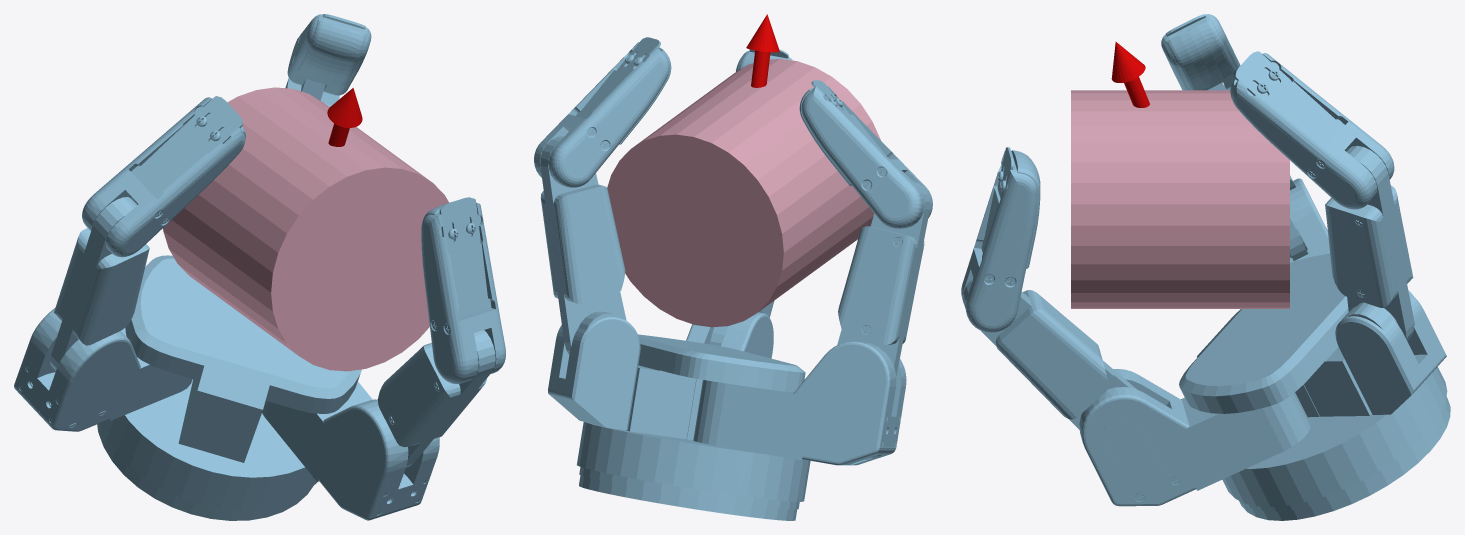
The picture shows the model from 3 angles, left to right: view 1: azimuth 30°, elevation 25°; view 2: azimuth 150°, elevation 25°; view 3: azimuth 270°, elevation 25°; orthographic projection. The views are drawn at different scales.
Parts seen in each view (by area): view 1: world, cylinder_medium.stl; view 2: world, cylinder_medium.stl; view 3: world, cylinder_medium.stl.
Boxes of the visible parts, bbox=[...] form: world: bbox=[14, 14, 505, 520]; cylinder_medium.stl: bbox=[163, 87, 448, 371]; world: bbox=[534, 14, 932, 520]; cylinder_medium.stl: bbox=[607, 58, 880, 327]; world: bbox=[961, 14, 1450, 520]; cylinder_medium.stl: bbox=[1071, 90, 1289, 308].
Size of the model in its own units: 0.1483 by 0.1933 by 0.1789.
